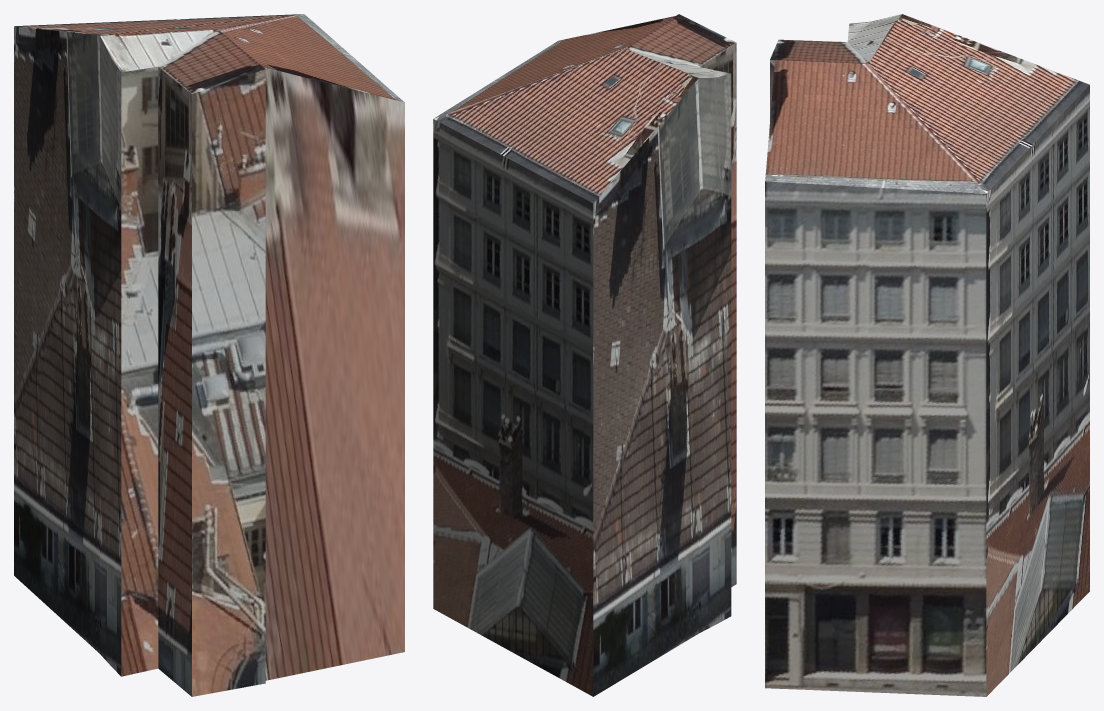
3 renders of one model, left to right at view 1: azimuth 30°, elevation 25°; view 2: azimuth 150°, elevation 25°; view 3: azimuth 270°, elevation 25°, orthographic. The views are drawn at different scales.
Visible parts, largest first — view 1: Z_UP; view 2: Z_UP; view 3: Z_UP.
Boxes of the visible parts, <box> form: Z_UP: <box>14,14,404,696</box>; Z_UP: <box>433,14,736,696</box>; Z_UP: <box>765,14,1089,696</box>.
Bounding box in the file's own units: 11.29 × 25.91 × 13.37.
2 materials, 1 textured.
